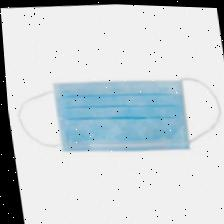mask: (31, 52, 205, 168)
